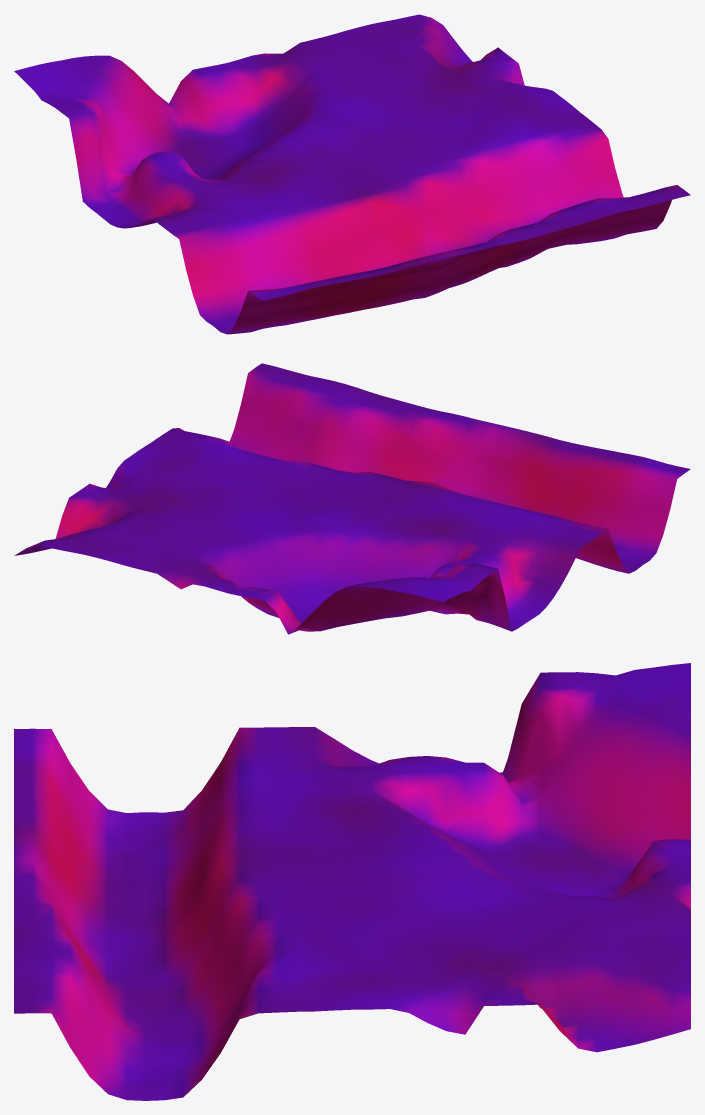
Rendered from ground_12.glb.
3 renders of one model, top to bottom at view 1: azimuth 30°, elevation 25°; view 2: azimuth 150°, elevation 25°; view 3: azimuth 270°, elevation 25°, orthographic. The views are drawn at different scales.
Visible parts, largest first — view 1: Ground_12; view 2: Ground_12; view 3: Ground_12.
Part boxes in pixels (x1=…): Ground_12: x1=14, y1=14, x2=690, y2=334; Ground_12: x1=14, y1=363, x2=690, y2=634; Ground_12: x1=14, y1=663, x2=690, y2=1100.
Size of what is drawn, in the model's own units: 36 by 9.27 by 36.
